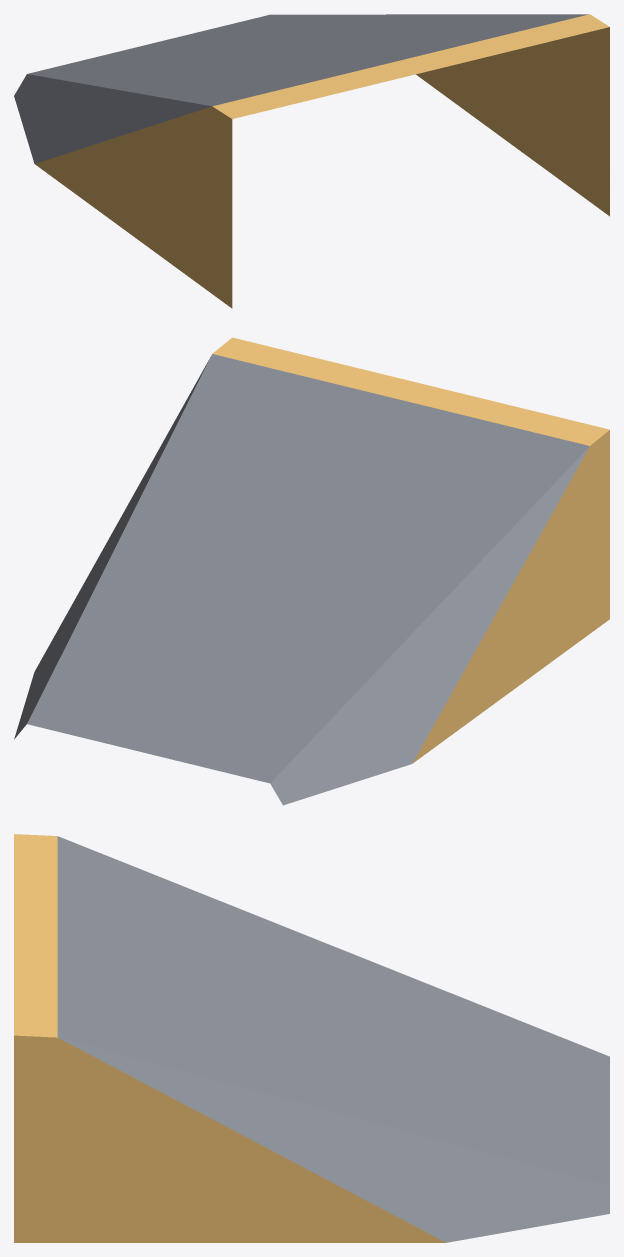
The picture shows the model from 3 angles, top to bottom: view 1: azimuth 30°, elevation 25°; view 2: azimuth 150°, elevation 25°; view 3: azimuth 270°, elevation 25°; orthographic projection. The views are drawn at different scales.
Size of the model in its own units: 0.8 by 0.3838 by 1.
